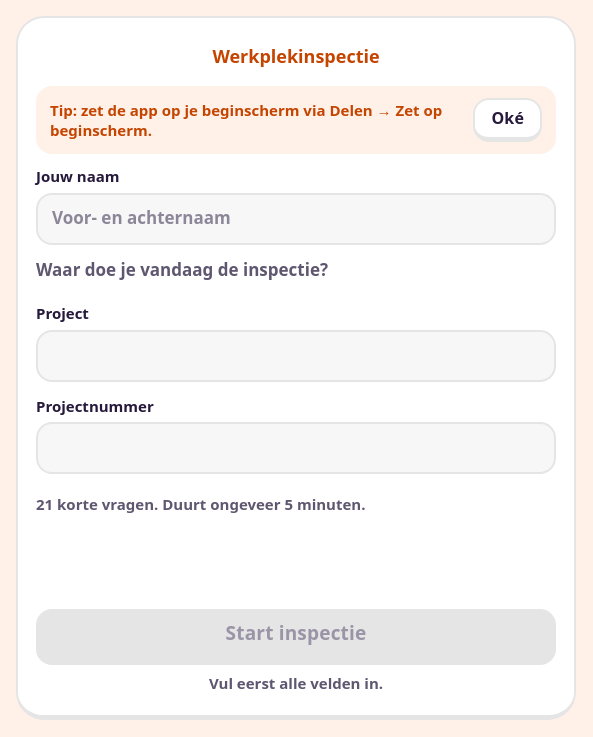
Test: iOS home screen hint › still works when localStorage is blocked
expect the text "Tip: zet de app op je beginscherm via Delen → Zet op beginscherm." is shown: met, box x1=50 y1=100 x2=461 y2=140
What coordinates should you click on to do the following:
click the button "Oké"
I would click on:
 (508, 120)
Its box is x1=473 y1=98 x2=542 y2=142.
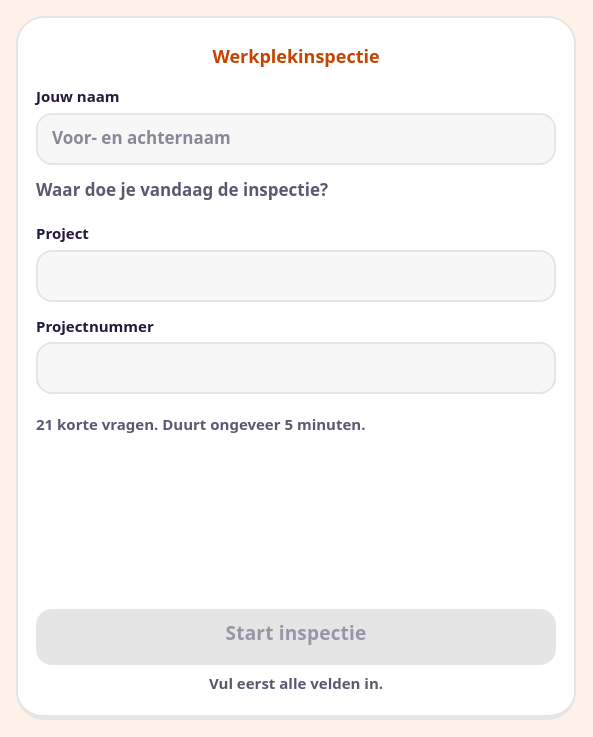
expect the text "Tip: zet de app op je beginscherm via Delen → Zet op beginscherm." is gone: met
